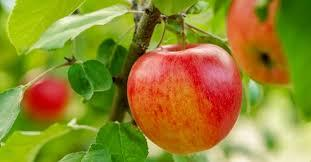apple: (124, 27, 242, 156), (228, 2, 301, 85), (20, 79, 70, 118)
